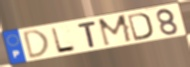8: (155, 7, 179, 36)
D: (22, 28, 51, 60), (126, 11, 154, 42)
L: (50, 26, 78, 54)
M: (96, 13, 135, 48)
T: (76, 20, 98, 49)
